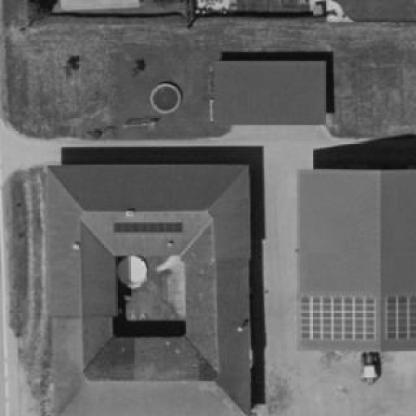solar-pv-panel: (301, 297, 374, 340), (385, 297, 416, 338), (114, 222, 183, 233)
